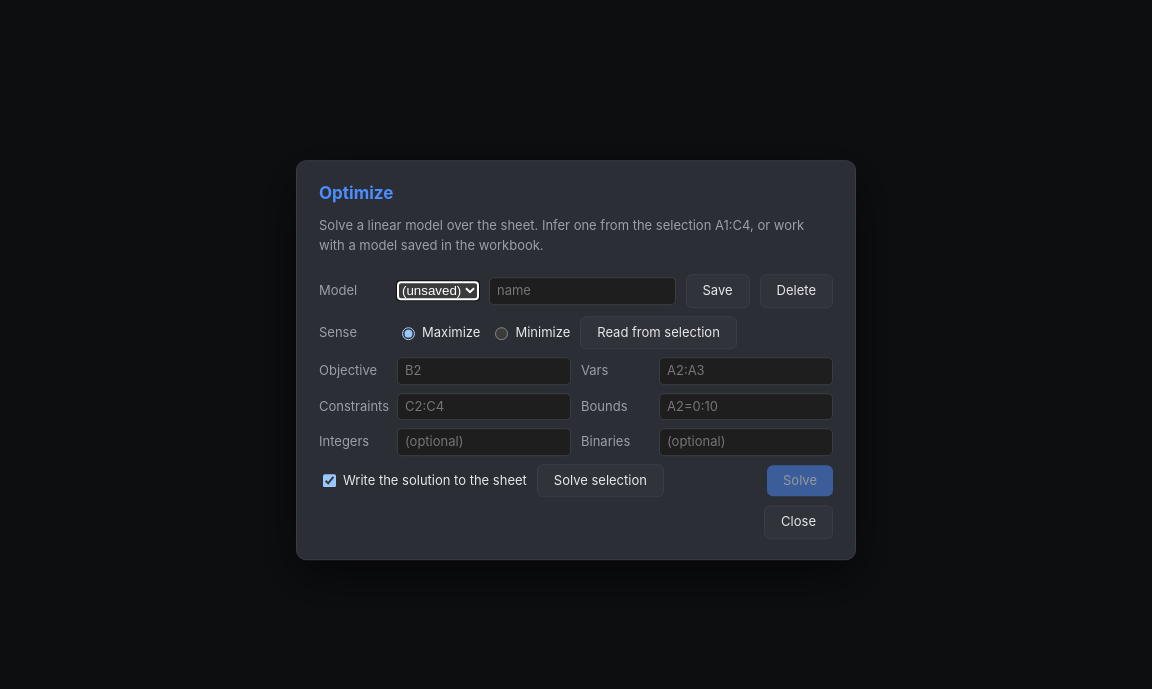
Test case: solving the selection renders the objective and sensitivity tables
Click the button "Solve selection" at (600, 481), box [537, 464, 664, 497]
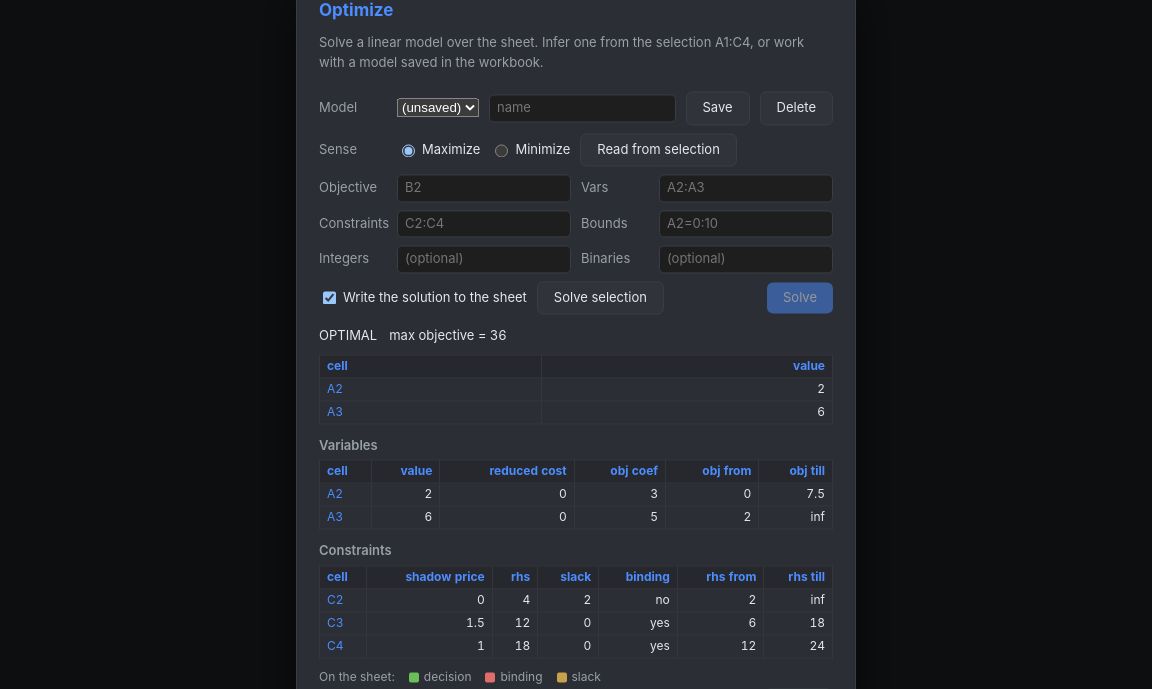
Expected: the text "OPTIMAL" is shown, [319, 326, 377, 346]
Expected: the text "max objective = 36" is shown, [389, 326, 507, 346]
Expected: the text "1.5" is shown, [367, 612, 492, 634]
